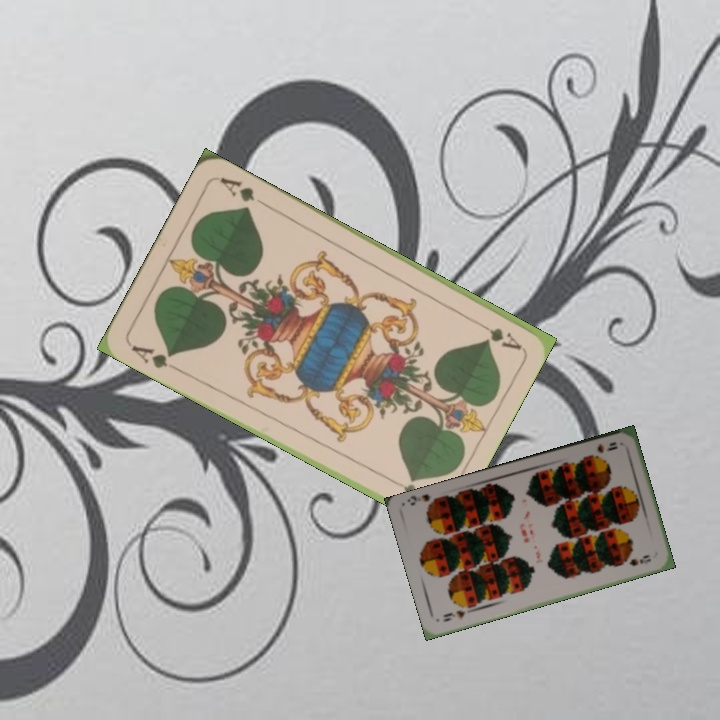GA: (469, 315, 523, 353), (127, 341, 181, 374)
S9: (584, 438, 620, 460), (439, 606, 469, 624)
